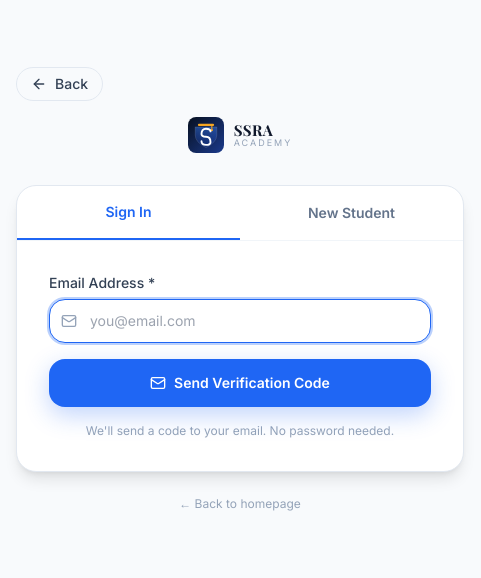
Test: StudentLogin — OTP verify hardening › login: complete profile → allowed, no sign-out
Later steps or results of the test are not shown.
Type "u@test.com" into the field with placeholder "you@email.com". click: x=240, y=320
box: [49,298,431,342]
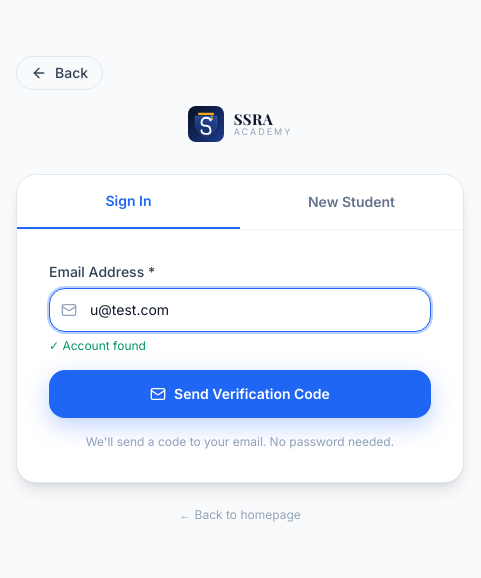
Expected: the button "Send Verification Code" is enabled
Click the button "Send Verification Code". click: x=240, y=394
box: [49,370,431,418]
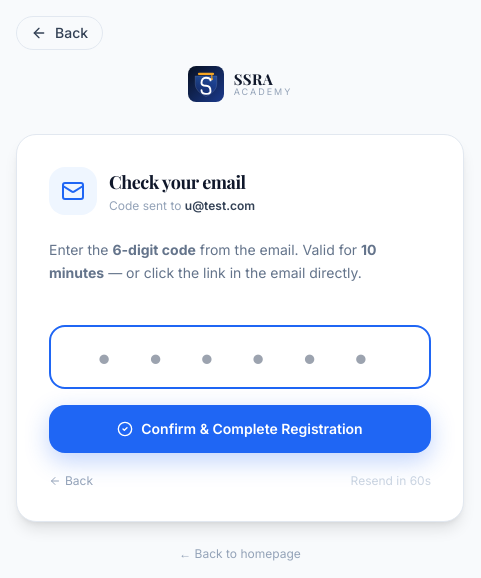
Expected: the field with placeholder "• • • • • •" is shown, [49,325,431,389]
